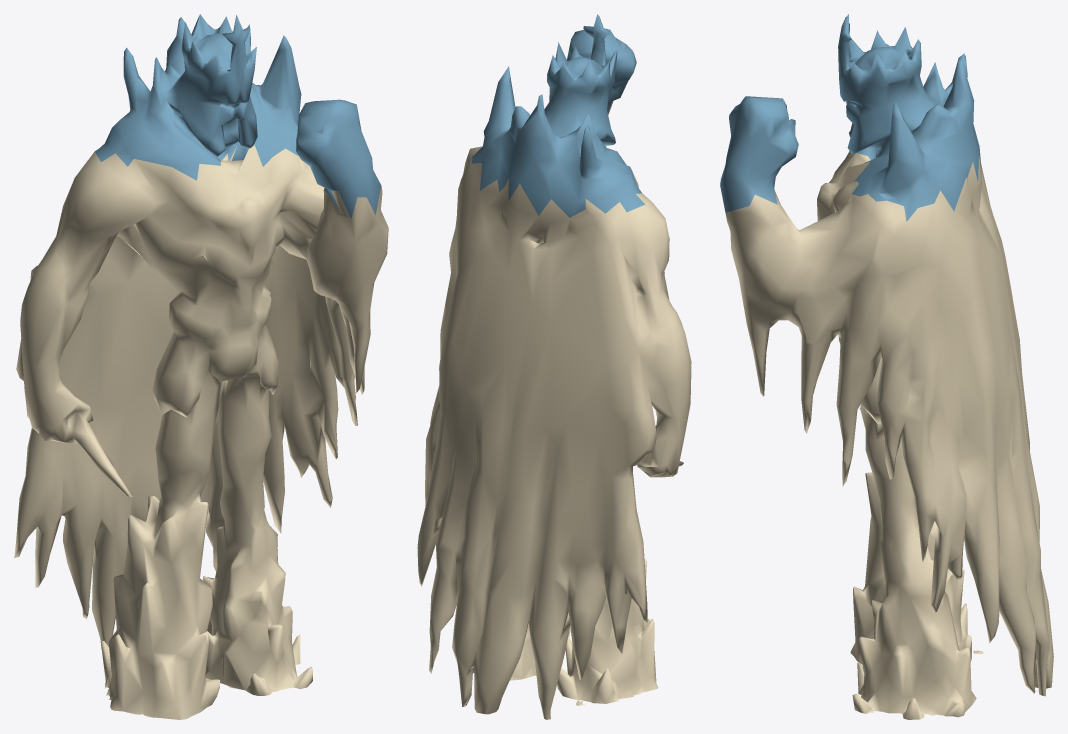
File: original-king.glb
The picture shows the model from 3 angles, left to right: view 1: azimuth 30°, elevation 25°; view 2: azimuth 150°, elevation 25°; view 3: azimuth 270°, elevation 25°; orthographic projection. The views are drawn at different scales.
Visible parts, largest first — view 1: Original_sculpt.005; view 2: Original_sculpt.005; view 3: Original_sculpt.005.
Part boxes in pixels (x1,y1,x2,y2): Original_sculpt.005: [14, 14, 388, 719]; Original_sculpt.005: [417, 14, 691, 719]; Original_sculpt.005: [720, 14, 1053, 719].
Size of the model in its own units: 0.6865 by 1.53 by 0.7.
